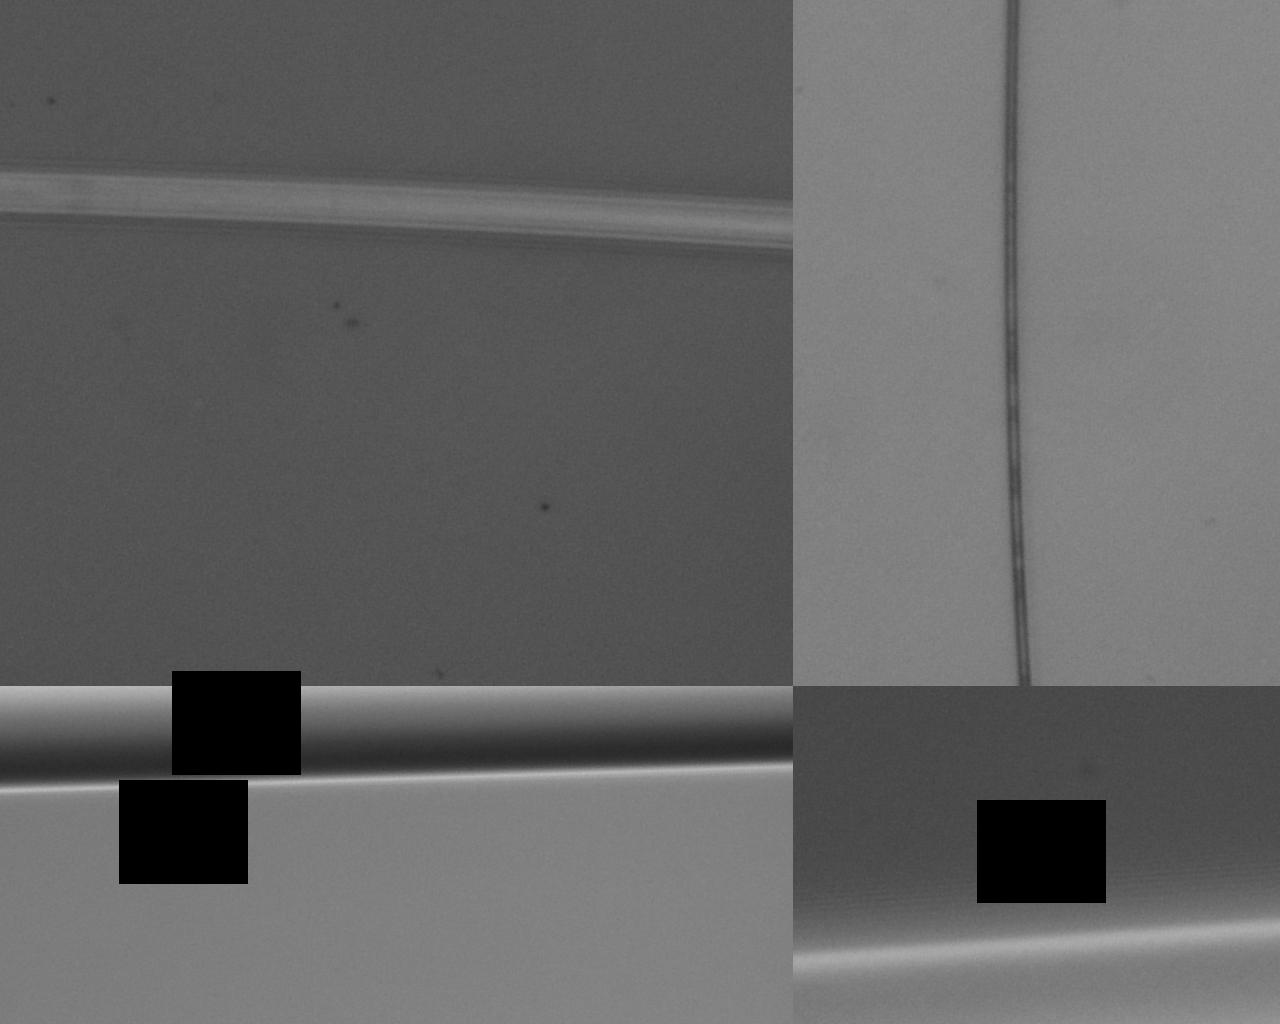fiber: (845, 155, 1280, 563), (285, 0, 564, 563)
